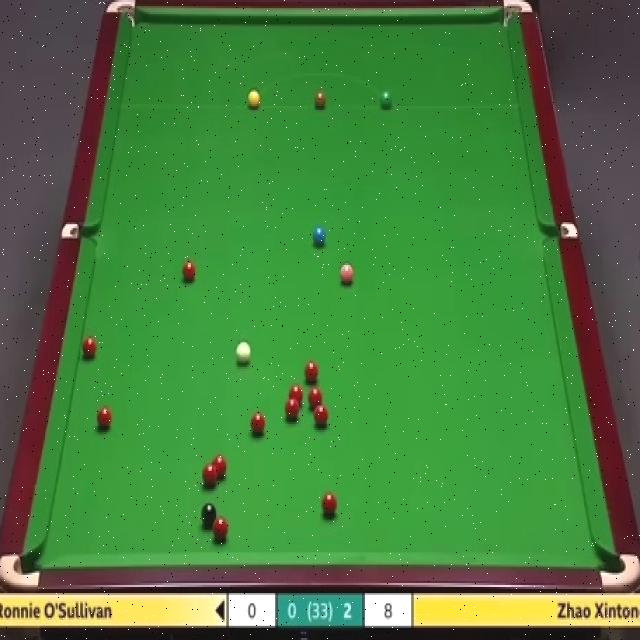black-ball: (200, 500, 218, 532)
blue-ball: (313, 224, 328, 250)
brown-ball: (314, 90, 327, 112)
green-ball: (378, 90, 392, 112)
pink-ball: (338, 259, 357, 287)
red-ball: (212, 518, 230, 546), (80, 334, 98, 361), (200, 464, 219, 489), (302, 359, 321, 384), (96, 404, 112, 432), (321, 492, 337, 518), (181, 259, 198, 283), (251, 414, 267, 438), (284, 398, 300, 422), (287, 384, 304, 405), (213, 454, 229, 476), (314, 403, 328, 427), (308, 388, 324, 408)
white-ball: (235, 339, 251, 366)
yellow-ball: (247, 89, 261, 110)
